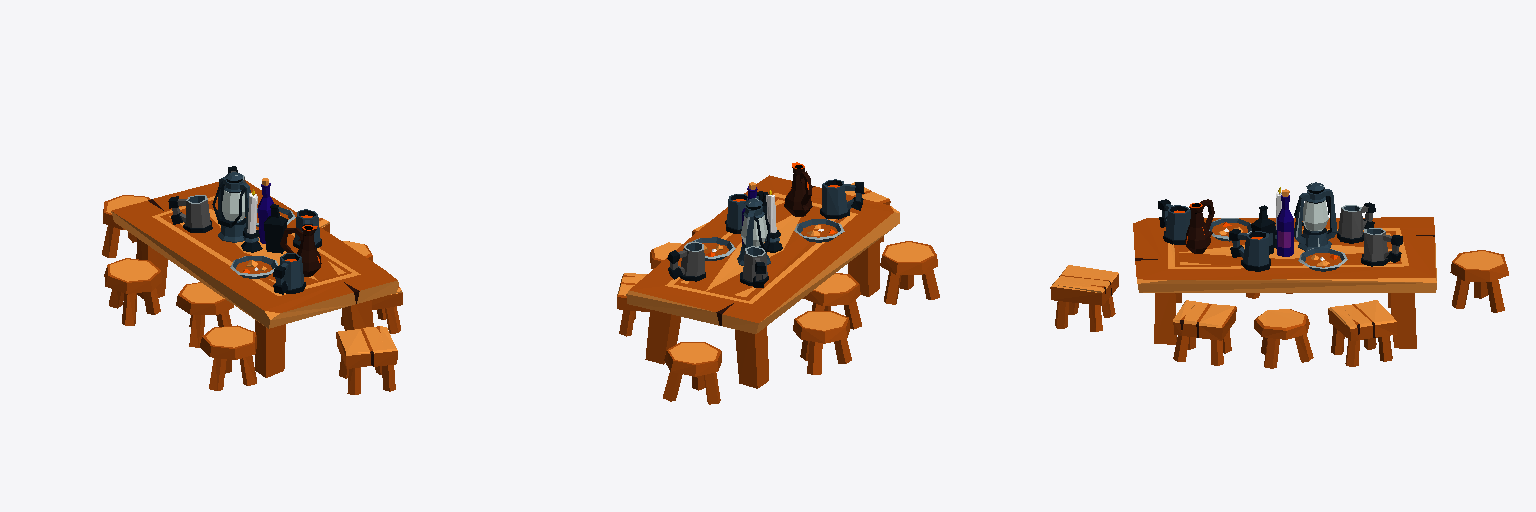
3 views of the same model, side by side, from view 1: azimuth 30°, elevation 25°; view 2: azimuth 150°, elevation 25°; view 3: azimuth 270°, elevation 25° (orthographic).
Visible parts, largest first — view 1: group[number redacted], group[number redacted], group[number redacted], group[number redacted], group[number redacted], group[number redacted], group[number redacted], group[number redacted], group[number redacted], group[number redacted], group[number redacted], group[number redacted] (+4 smaller); view 2: group[number redacted], group[number redacted], group[number redacted], group[number redacted], group[number redacted], group[number redacted], group[number redacted], group[number redacted], group[number redacted], group[number redacted], group[number redacted], group[number redacted] (+3 smaller); view 3: group[number redacted], group[number redacted], group[number redacted], group[number redacted], group[number redacted], group[number redacted], group[number redacted], group[number redacted], group[number redacted], group[number redacted], group[number redacted], group[number redacted] (+3 smaller).
Boxes of the visible parts, <box> form: group[number redacted]: <box>111,180,398,377</box>; group[number redacted]: <box>336,326,397,394</box>; group[number redacted]: <box>104,258,161,325</box>; group[number redacted]: <box>200,325,256,390</box>; group[number redacted]: <box>212,172,250,242</box>; group[number redacted]: <box>176,282,233,347</box>; group[number redacted]: <box>168,195,212,232</box>; group[number redacted]: <box>102,195,150,257</box>; group[number redacted]: <box>273,253,305,294</box>; group[number redacted]: <box>280,225,321,276</box>; group[number redacted]: <box>341,286,402,333</box>; group[number redacted]: <box>230,256,277,278</box>; group[number redacted]: <box>626,175,899,388</box>; group[number redacted]: <box>663,342,721,404</box>; group[number redacted]: <box>880,241,939,304</box>; group[number redacted]: <box>793,311,851,374</box>; group[number redacted]: <box>803,273,861,329</box>; group[number redacted]: <box>820,179,864,219</box>; group[number redacted]: <box>737,198,770,265</box>; group[number redacted]: <box>667,241,705,281</box>; group[number redacted]: <box>784,162,812,216</box>; group[number redacted]: <box>740,246,768,287</box>; group[number redacted]: <box>617,273,649,336</box>; group[number redacted]: <box>794,219,844,242</box>; group[number redacted]: <box>1133,217,1436,348</box>; group[number redacted]: <box>1328,300,1396,366</box>; group[number redacted]: <box>1050,265,1118,331</box>; group[number redacted]: <box>1173,300,1236,365</box>; group[number redacted]: <box>1450,250,1508,312</box>; group[number redacted]: <box>1294,182,1337,251</box>; group[number redacted]: <box>1254,309,1313,368</box>; group[number redacted]: <box>1229,229,1270,271</box>; group[number redacted]: <box>1361,228,1402,266</box>; group[number redacted]: <box>1337,202,1375,243</box>; group[number redacted]: <box>1185,199,1214,253</box>; group[number redacted]: <box>1158,199,1190,244</box>.
Bounding box in the file's own units: 1.87 × 1.11 × 3.24.